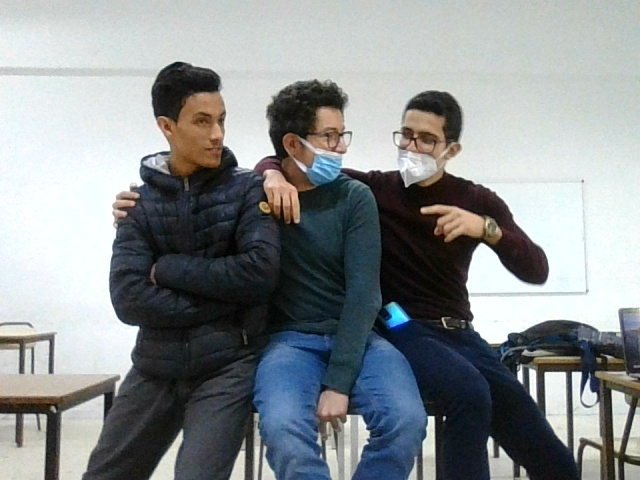mask_weared_incorrect: (272, 76, 356, 195), (390, 83, 468, 194)
without_mask: (145, 63, 234, 174)
